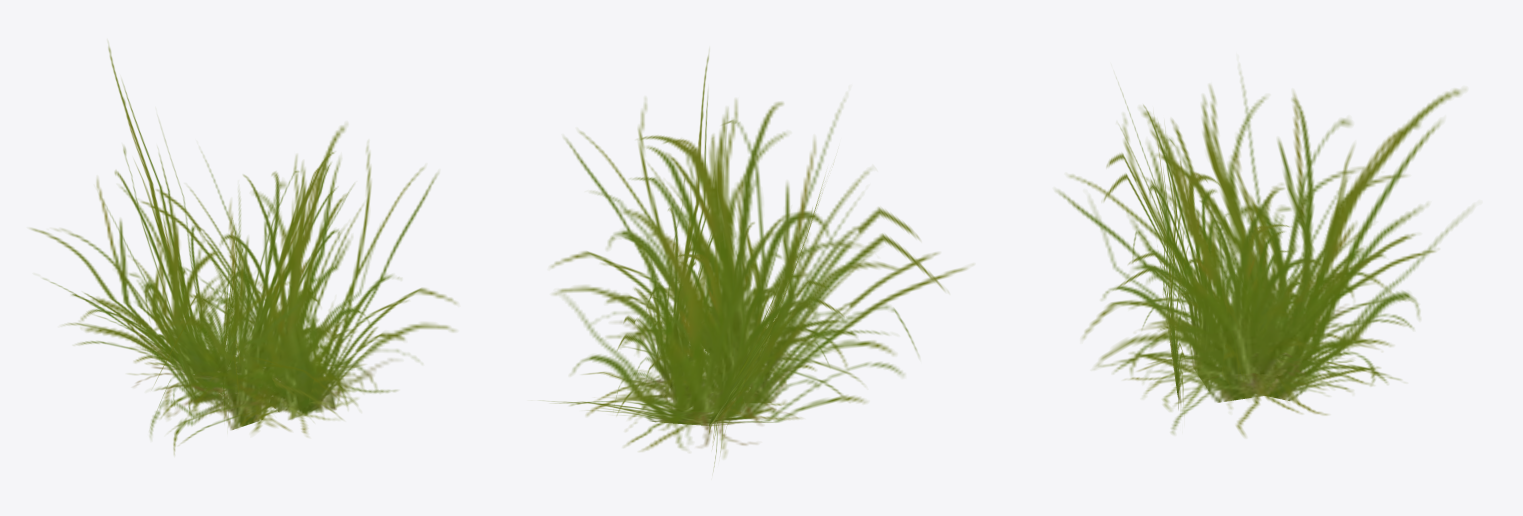
The model's file is grass_fresh.glb.
The picture shows the model from 3 angles, left to right: view 1: azimuth 30°, elevation 25°; view 2: azimuth 150°, elevation 25°; view 3: azimuth 270°, elevation 25°; orthographic projection. The views are drawn at different scales.
Visible parts, largest first — view 1: Grass main fresh; view 2: Grass main fresh; view 3: Grass main fresh.
Part boxes in pixels (x1,y1,x2,y2): Grass main fresh: [30, 46, 456, 454]; Grass main fresh: [551, 55, 966, 470]; Grass main fresh: [1056, 72, 1470, 436].
Bounding box in the file's own units: 0.3252 × 0.257 × 0.3178.
Materials: 1 (1 with a texture image).
